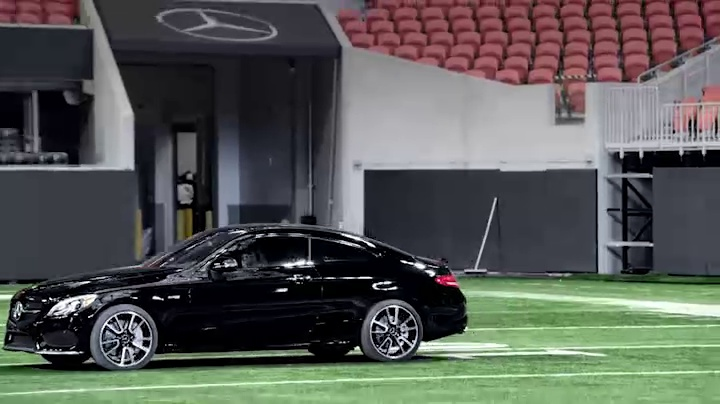amg: (1, 222, 472, 369)
